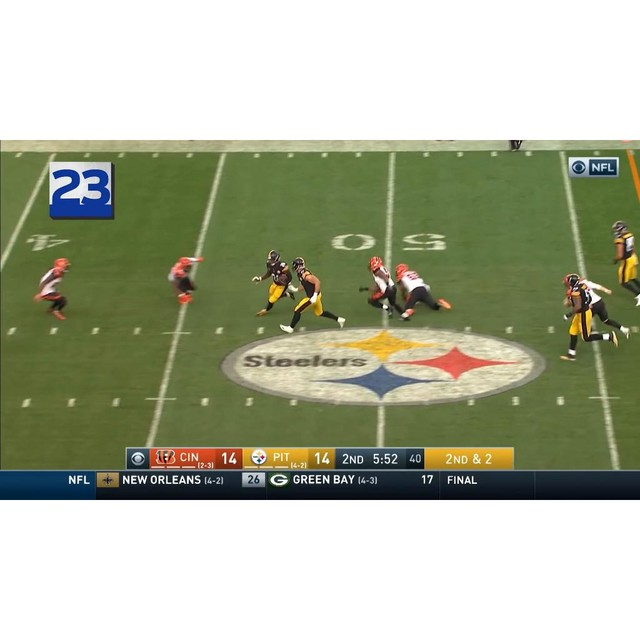american-football-player: (561, 273, 621, 358), (285, 257, 345, 336), (394, 263, 451, 321), (251, 250, 296, 319), (359, 256, 405, 321), (609, 221, 640, 307), (32, 257, 72, 319), (168, 255, 203, 305)
